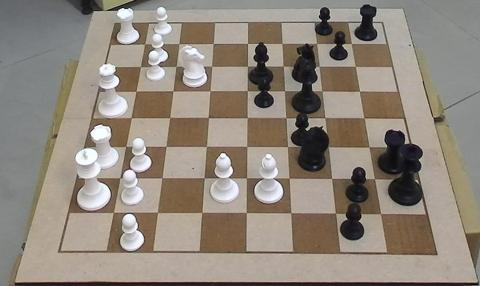xcorner: (347, 39, 357, 49), (312, 39, 322, 49), (277, 39, 287, 49), (242, 39, 252, 49), (173, 39, 183, 49), (139, 39, 149, 49), (351, 62, 361, 72), (278, 62, 288, 72), (242, 62, 252, 72), (206, 62, 216, 72), (170, 62, 180, 72), (355, 87, 365, 97), (280, 87, 290, 97), (130, 86, 140, 96), (360, 114, 370, 124), (203, 113, 213, 123), (164, 113, 174, 123), (324, 143, 334, 153), (283, 143, 293, 153), (201, 142, 211, 152), (161, 142, 171, 152), (120, 142, 130, 152), (328, 175, 338, 185), (285, 175, 295, 185), (199, 174, 209, 184), (157, 174, 167, 184), (115, 173, 125, 183), (377, 211, 387, 221), (332, 210, 342, 220), (287, 210, 297, 220), (197, 209, 207, 219), (208, 39, 217, 49), (315, 62, 324, 72), (135, 62, 145, 71), (318, 87, 327, 97), (242, 87, 252, 96), (205, 87, 215, 96), (168, 86, 177, 96), (321, 114, 330, 124), (281, 114, 291, 123), (242, 114, 252, 123), (126, 113, 135, 123), (365, 144, 375, 153), (242, 143, 252, 152), (371, 176, 381, 185), (242, 175, 252, 184), (242, 210, 252, 219), (153, 209, 163, 218), (109, 208, 118, 218)
